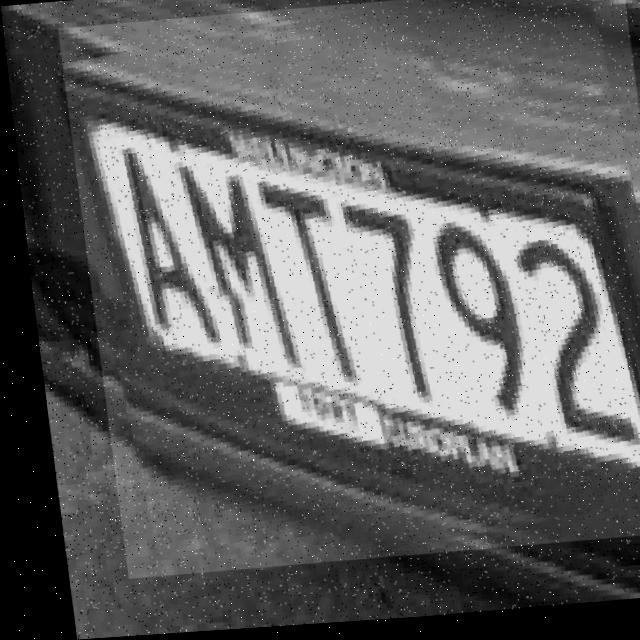LicensePlate: (55, 0, 640, 580)
